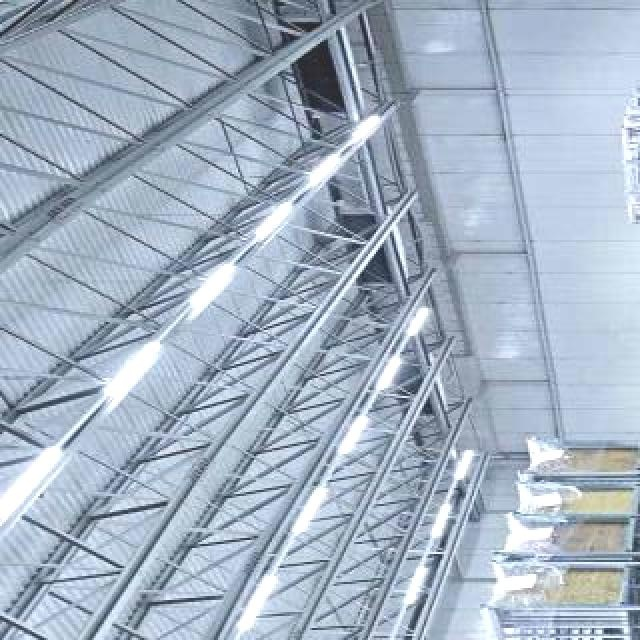fluorescent tube: (0, 438, 71, 540), (95, 331, 173, 411), (180, 252, 249, 312), (284, 474, 336, 542), (232, 570, 280, 640), (298, 145, 355, 191), (331, 411, 384, 458), (249, 200, 302, 245), (418, 500, 460, 544), (396, 562, 433, 611), (437, 446, 479, 486), (349, 108, 389, 148), (404, 298, 438, 344), (367, 356, 405, 393), (366, 630, 402, 640)
